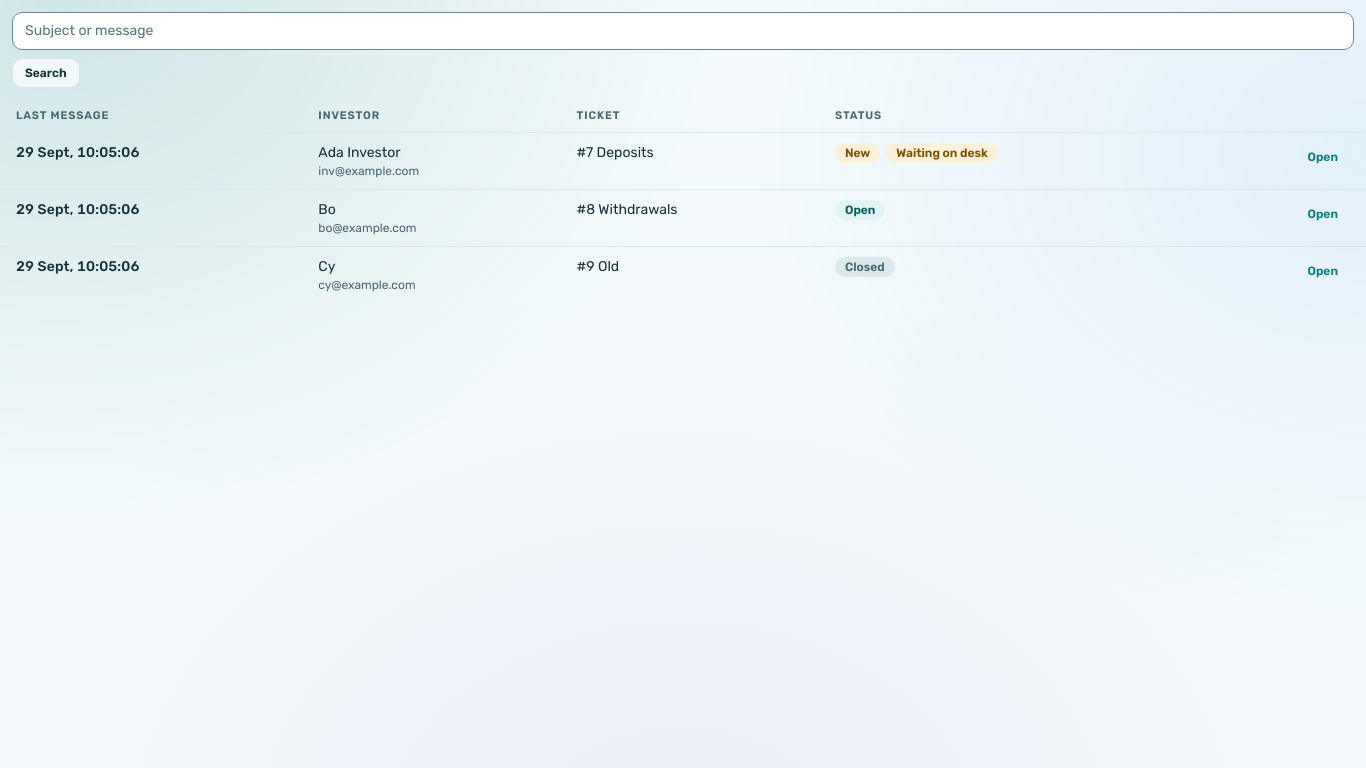
Scenario: a close 409 (decided elsewhere) also refetches the open thread, so the drawer shows the real status
Click the button with aria-label "Open ticket 7" at [1323, 157], box [1296, 143, 1350, 171]
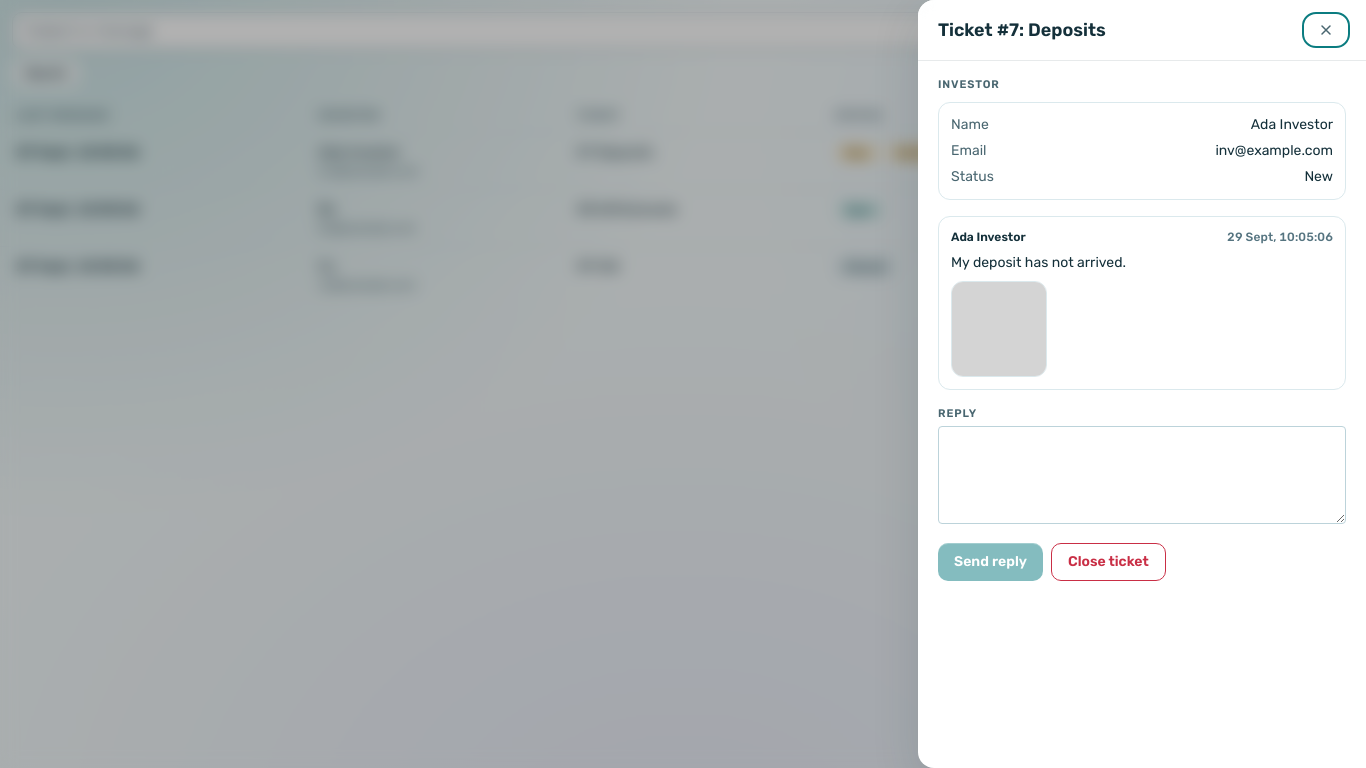
Click the button "Close ticket" at [1108, 562], box [1051, 543, 1166, 581]
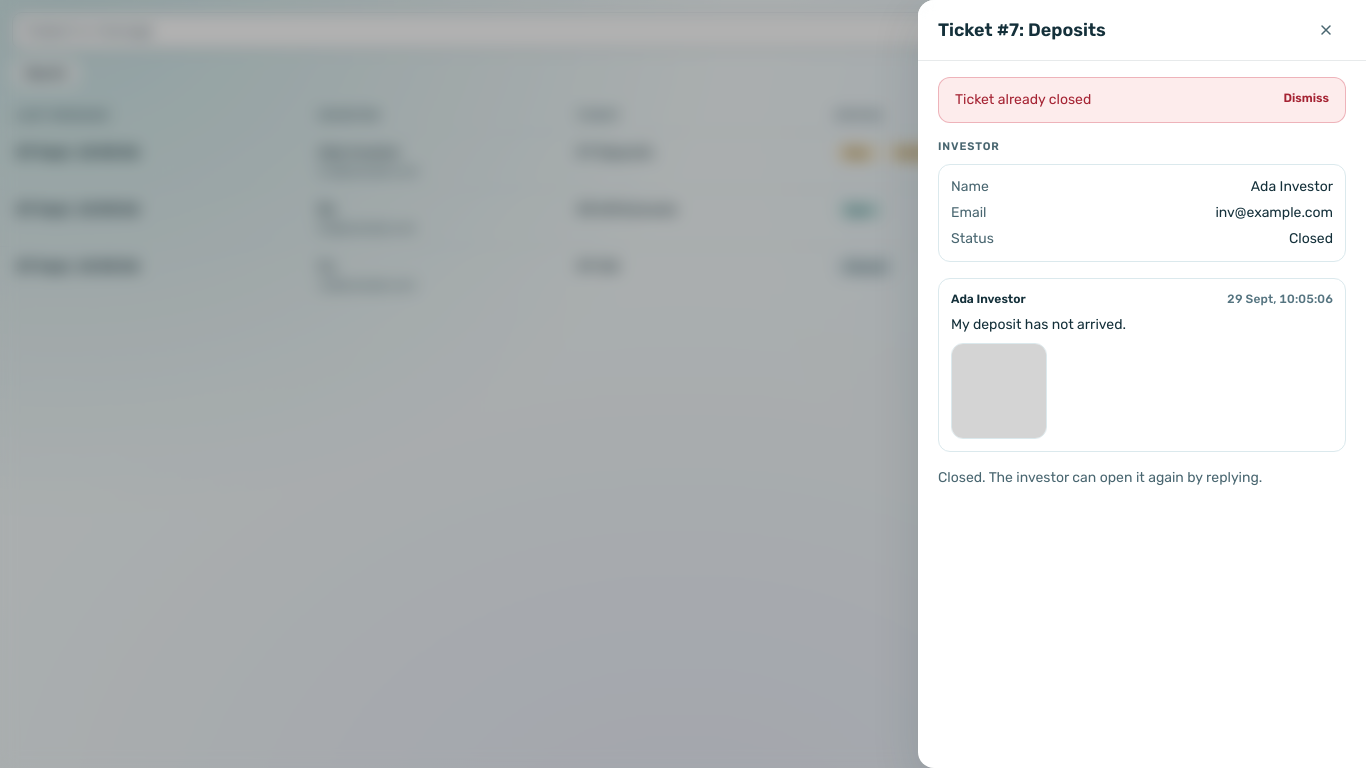
expect the text "Ticket already closed" is shown: met, box [955, 90, 1091, 110]
expect the text "Closed. The investor can open it again by replying." is shown: met, box [938, 468, 1262, 486]
